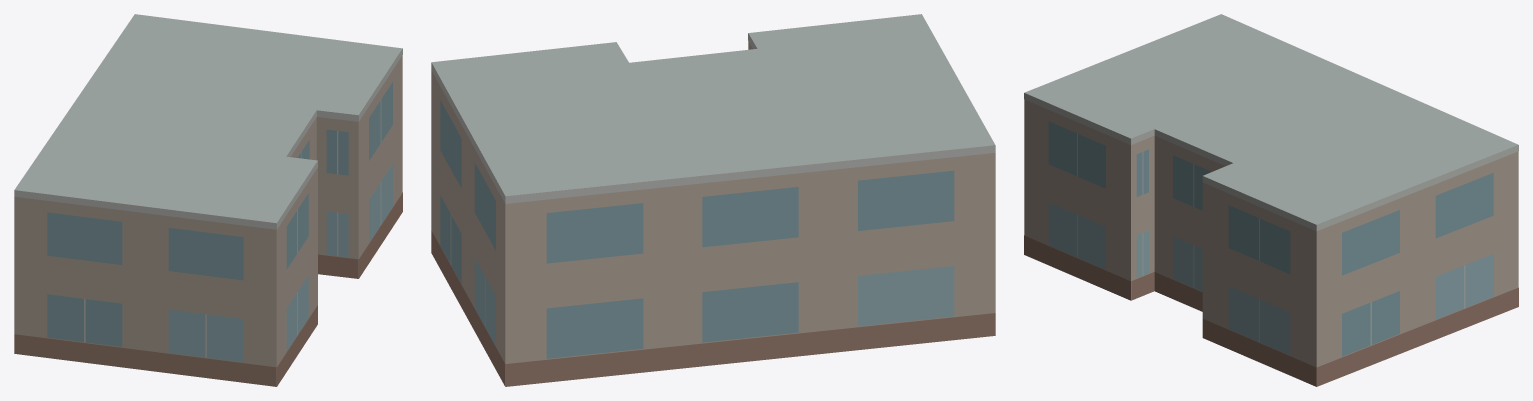
The model's file is survey-upis-32721285.glb.
3 views of the same model, side by side, from view 1: azimuth 30°, elevation 25°; view 2: azimuth 150°, elevation 25°; view 3: azimuth 270°, elevation 25° (orthographic). The views are drawn at different scales.
Parts seen in each view (by area): view 1: survey-upis-32721285.tmp; view 2: survey-upis-32721285.tmp; view 3: survey-upis-32721285.tmp.
Boxes of the visible parts, <box> form: survey-upis-32721285.tmp: <box>14,14,402,386</box>; survey-upis-32721285.tmp: <box>431,14,995,386</box>; survey-upis-32721285.tmp: <box>1024,14,1518,386</box>.
Bounding box in the file's own units: 17.03 × 6.1 × 16.89.
